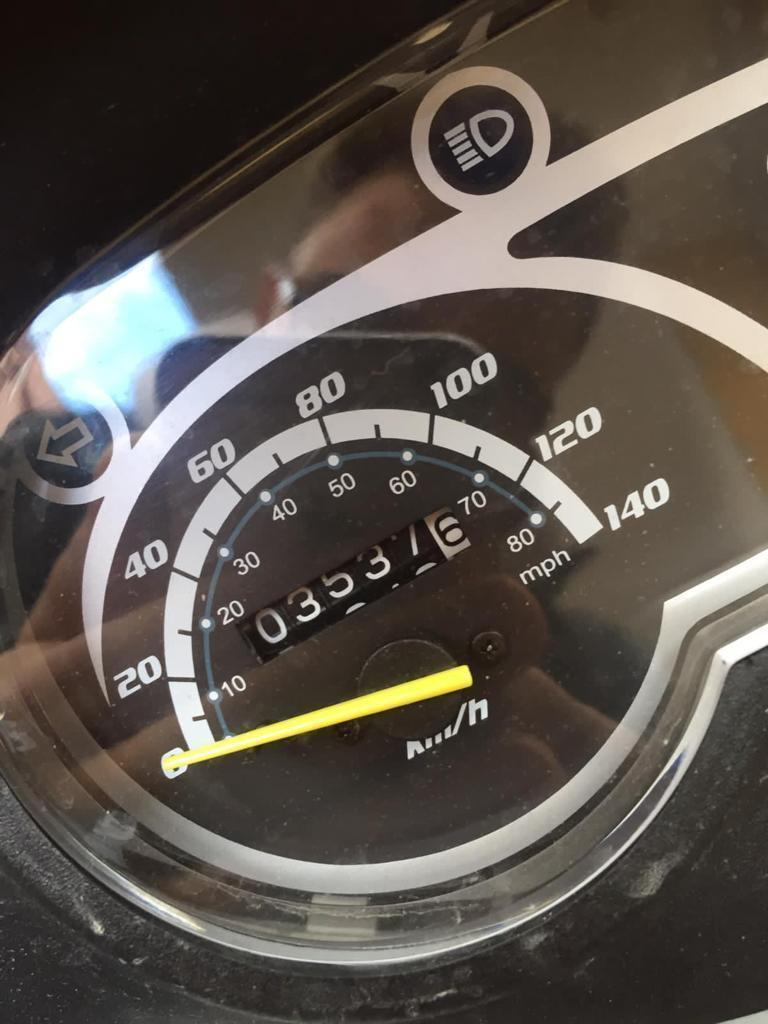0: (253, 606, 289, 645), (281, 497, 298, 516), (228, 599, 245, 617), (244, 550, 260, 568)
3: (285, 586, 321, 623), (356, 544, 392, 580), (231, 557, 248, 576)
4: (271, 503, 285, 521)
5: (320, 562, 353, 599)
6: (433, 510, 467, 546)
7: (390, 521, 420, 558), (455, 495, 471, 516)
odometer: (230, 504, 474, 671)
